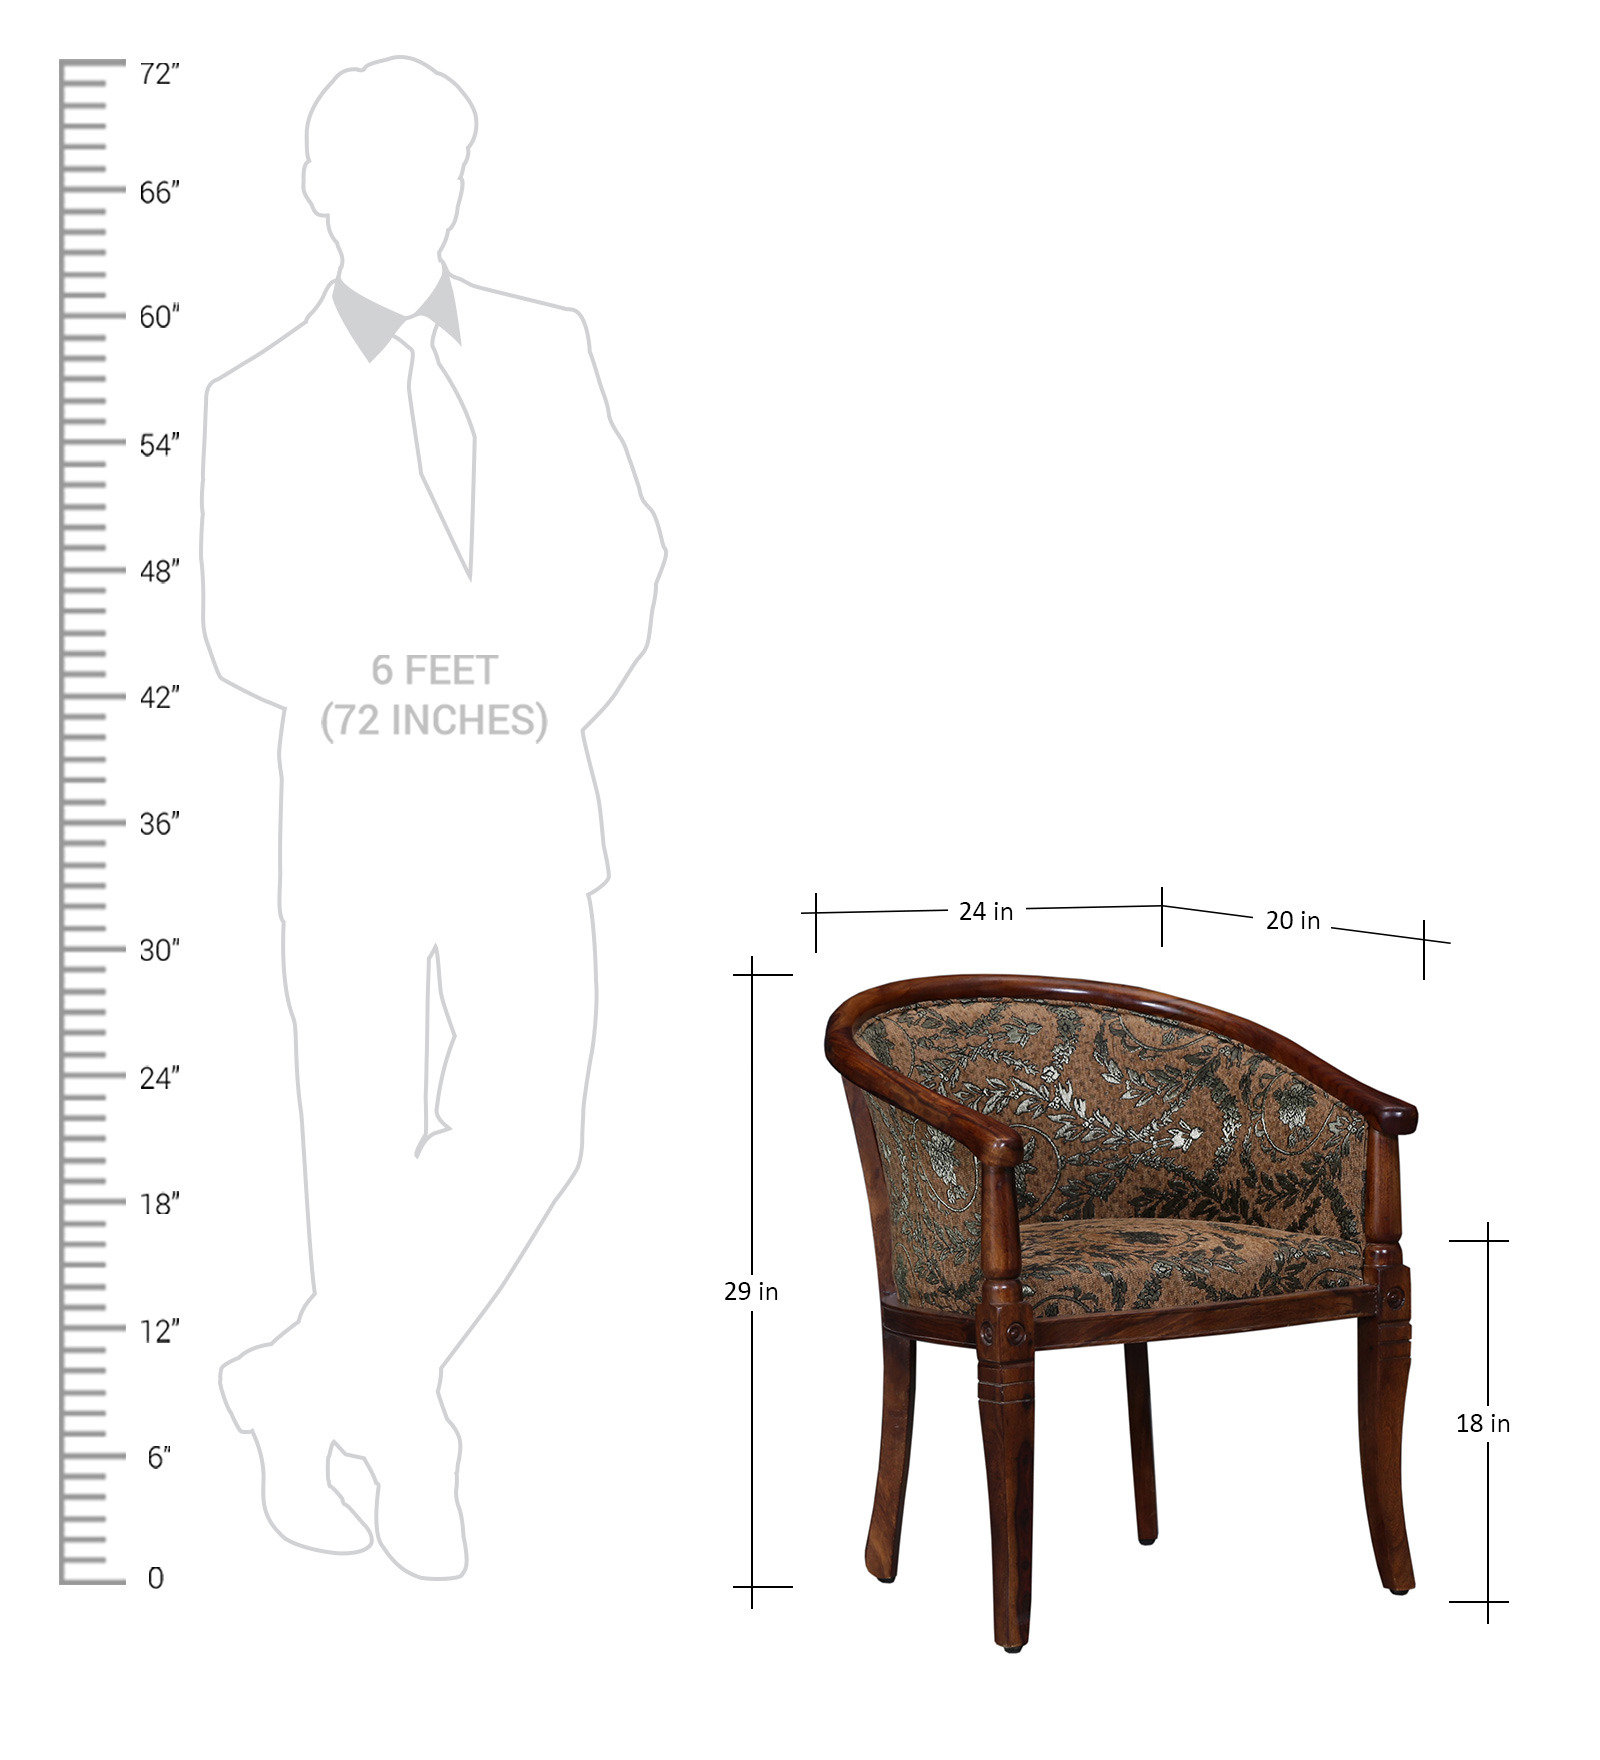Stalley Arm Chair in Honey Oak Finish by Amberville: (803, 954, 1456, 1653)
